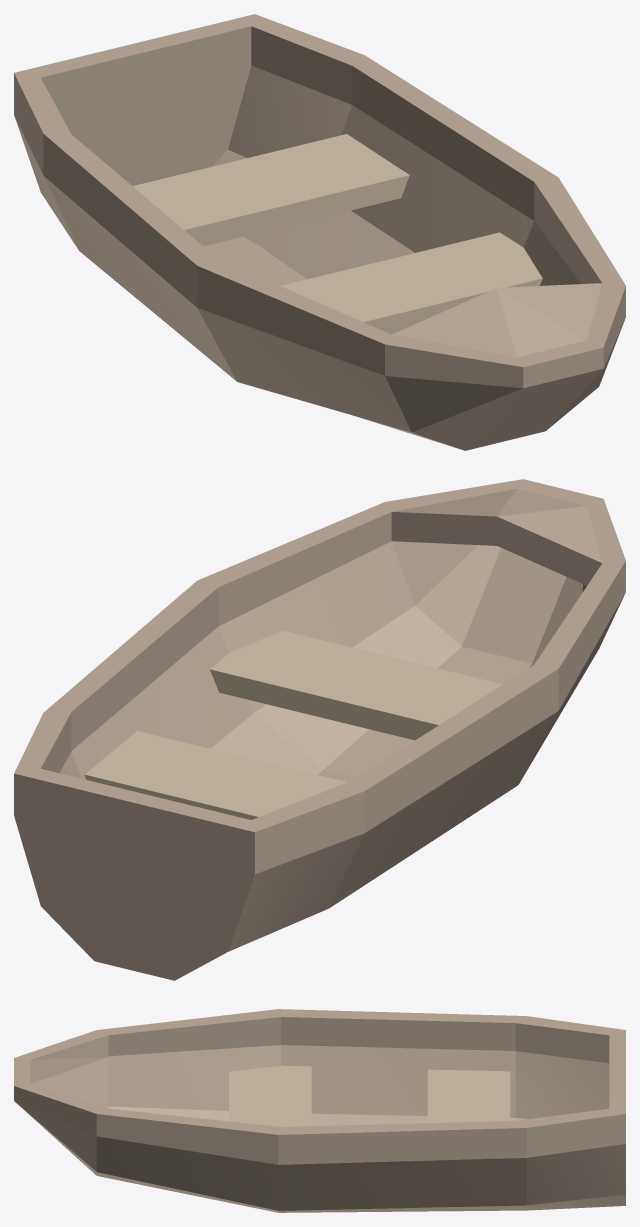
File: bote1.glb
The picture shows the model from 3 angles, top to bottom: view 1: azimuth 30°, elevation 25°; view 2: azimuth 150°, elevation 25°; view 3: azimuth 270°, elevation 25°; orthographic projection. The views are drawn at different scales.
Visible parts, largest first — view 1: object3, object2, object1; view 2: object3, object1, object2; view 3: object3, object1, object2.
Boxes of the visible parts, x1,y1,x2,y2 form: object3: (14, 14, 625, 450); object2: (133, 134, 409, 246); object1: (281, 232, 542, 334); object3: (14, 479, 625, 980); object1: (210, 630, 502, 740); object2: (84, 731, 347, 819); object3: (14, 1009, 625, 1212); object1: (229, 1065, 311, 1126); object2: (427, 1069, 510, 1122).
Bounding box in the file's own units: 1.12 × 0.5625 × 2.31.
